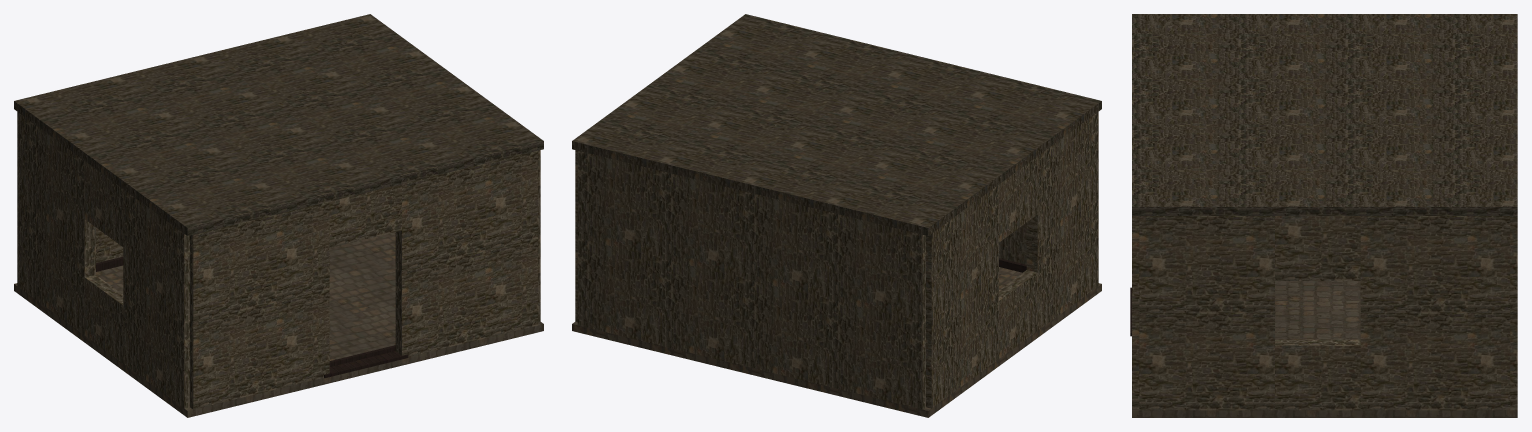
Rendered from int_dungeon_gate_01.glb.
3 renders of one model, left to right at view 1: azimuth 30°, elevation 25°; view 2: azimuth 150°, elevation 25°; view 3: azimuth 270°, elevation 25°, orthographic. The views are drawn at different scales.
Parts seen in each view (by area): view 1: int_dungeon_gate_01; view 2: int_dungeon_gate_01; view 3: int_dungeon_gate_01.
Part boxes in pixels (x1,y1,x2,y2): int_dungeon_gate_01: (14, 14, 543, 417); int_dungeon_gate_01: (572, 14, 1101, 417); int_dungeon_gate_01: (1130, 14, 1517, 417).
Bounding box in the file's own units: 6.4 × 3.26 × 5.42.
Materials: 5 (5 with a texture image).
